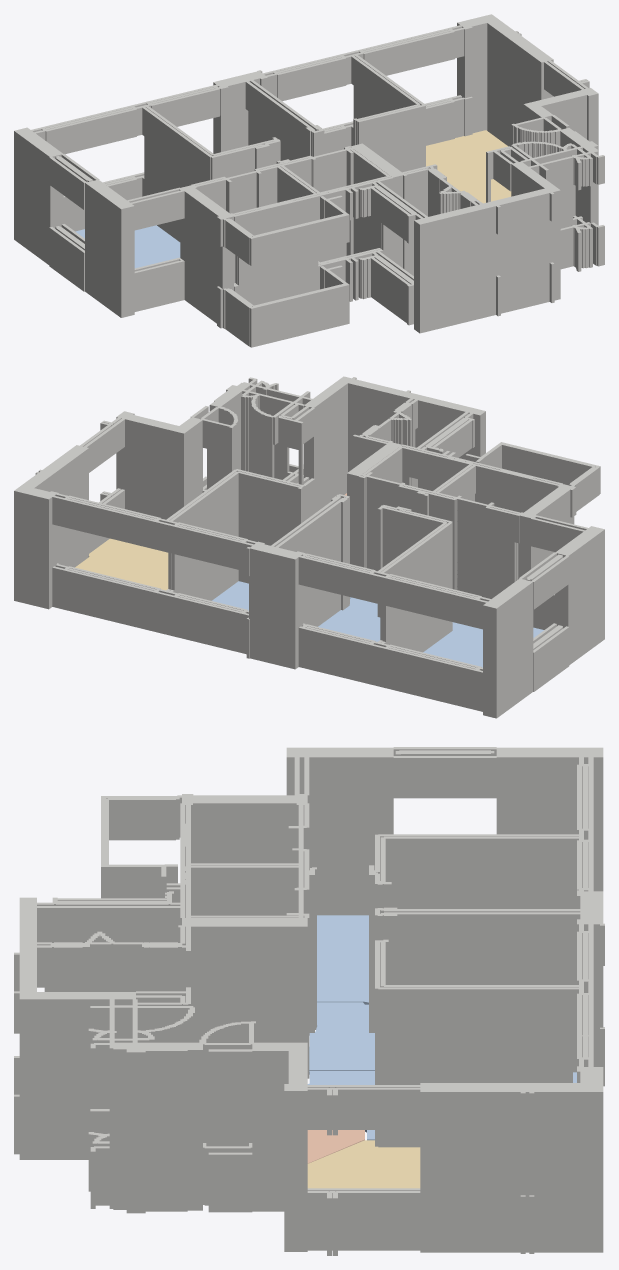
3 renders of one model, top to bottom at view 1: azimuth 30°, elevation 25°; view 2: azimuth 150°, elevation 25°; view 3: azimuth 270°, elevation 25°, orthographic. The views are drawn at different scales.
Visible parts, largest first — view 1: walls, room:living:2, room:bedroom:0; view 2: walls, room:living:2, room:bedroom:0, room:bedroom:1, room:bedroom:3; view 3: walls, room:bedroom:0, room:living:2, room:bedroom:1, room:kitchen:8, room:bedroom:3.
Part boxes in pixels (left/top/right/bottom): walls: left=14, top=14, right=604, bottom=347; room:living:2: left=426, top=130, right=511, bottom=203; room:bedroom:0: left=75, top=225, right=180, bottom=268; walls: left=14, top=376, right=604, bottom=718; room:living:2: left=75, top=538, right=168, bottom=590; room:bedroom:0: left=423, top=622, right=543, bottom=667; room:bedroom:1: left=318, top=597, right=380, bottom=641; room:bedroom:3: left=212, top=581, right=351, bottom=610; walls: left=14, top=747, right=604, bottom=1255; room:bedroom:0: left=317, top=915, right=368, bottom=1004; room:living:2: left=307, top=1140, right=420, bottom=1188; room:bedroom:1: left=309, top=1002, right=374, bottom=1070; room:kitchen:8: left=307, top=1130, right=364, bottom=1163; room:bedroom:3: left=307, top=1071, right=576, bottom=1140.
Size of the model in its own units: 13 by 2.8 by 9.33.
